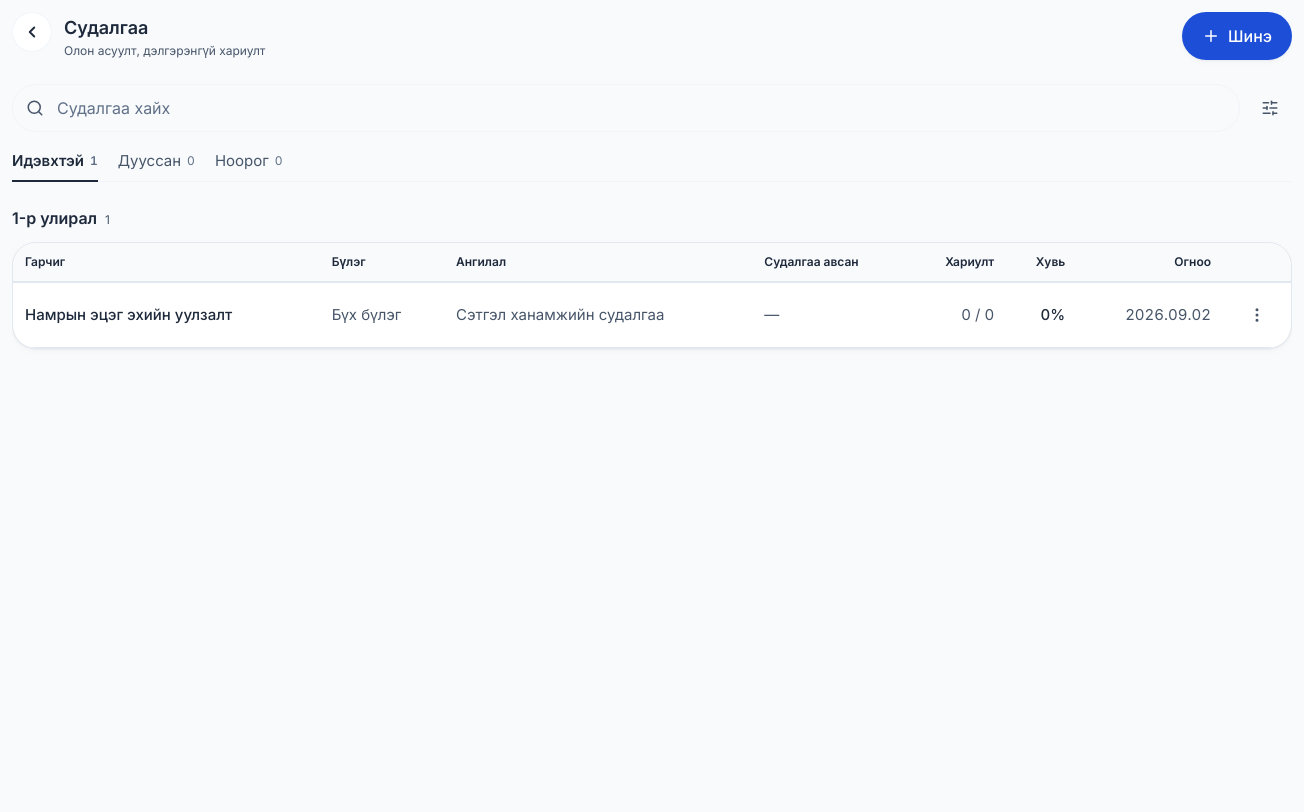
Test: a survey card's menu › offers the five actions the client asked for
Step 1. Click the button named "Намрын эцэг эхийн уулзалт үйлдэл" → x=1257, y=315, box [1235, 293, 1279, 337]
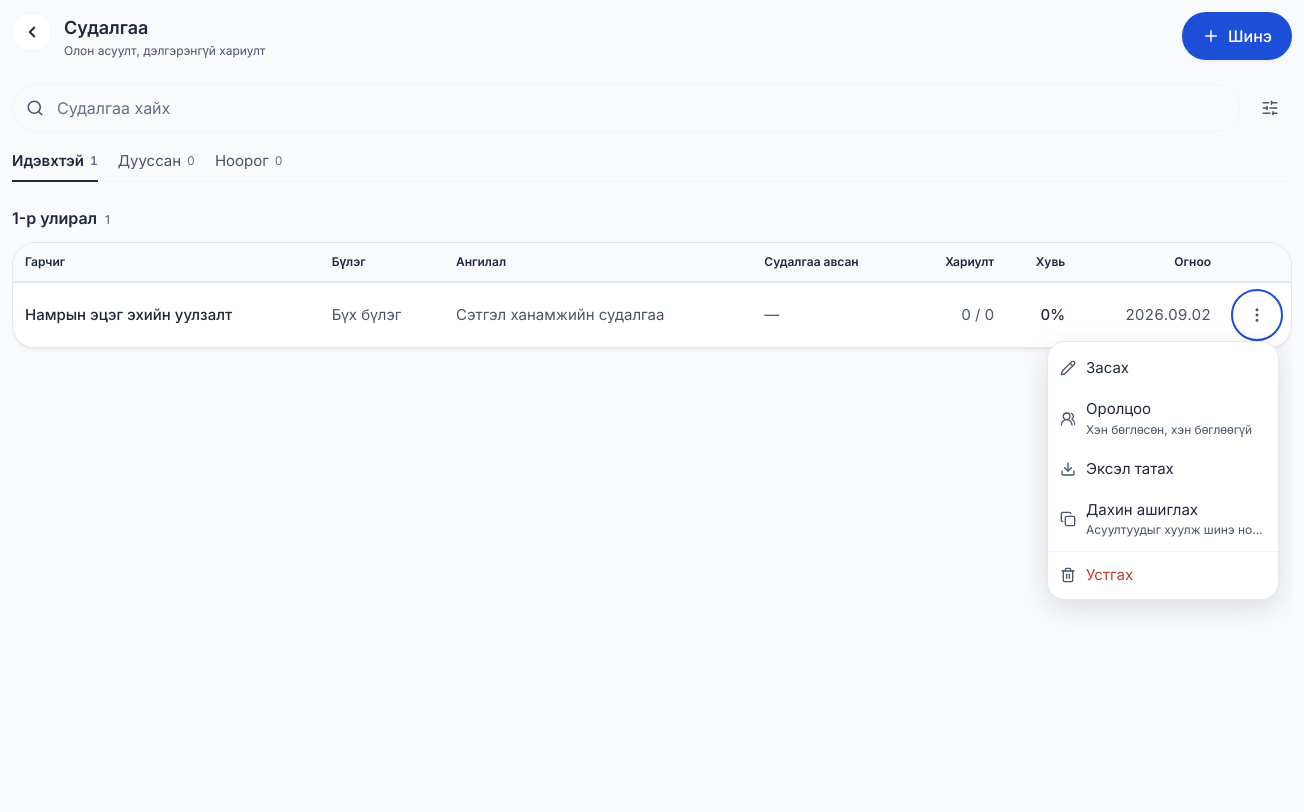
Check: the menu item "Засах" is shown, box [1048, 346, 1278, 390]
Check: the menu item "Оролцоо Хэн бөглөсөн, хэн бөглөөгүй" is shown, box [1048, 390, 1278, 447]
Check: the menu item "Эксэл татах" is shown, box [1048, 447, 1278, 491]
